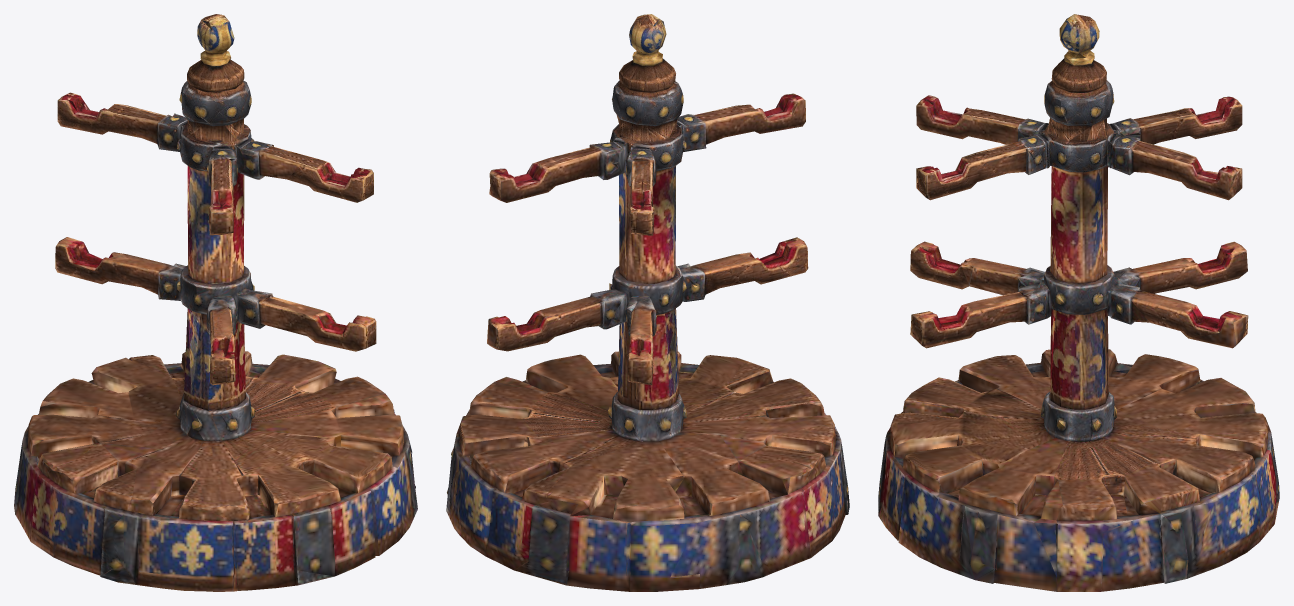
File: carousel_stand.glb
The picture shows the model from 3 angles, left to right: view 1: azimuth 30°, elevation 25°; view 2: azimuth 150°, elevation 25°; view 3: azimuth 270°, elevation 25°; orthographic projection.
Visible parts, largest first — view 1: mesh_0; view 2: mesh_0; view 3: mesh_0.
Boxes of the visible parts, box(x1,y1,x2,y2) form: mesh_0: box(14, 14, 417, 591); mesh_0: box(446, 14, 849, 591); mesh_0: box(878, 14, 1279, 591).
Bounding box in the file's own units: 1.48 × 2 × 1.48.
Materials: 1 (1 with a texture image).
